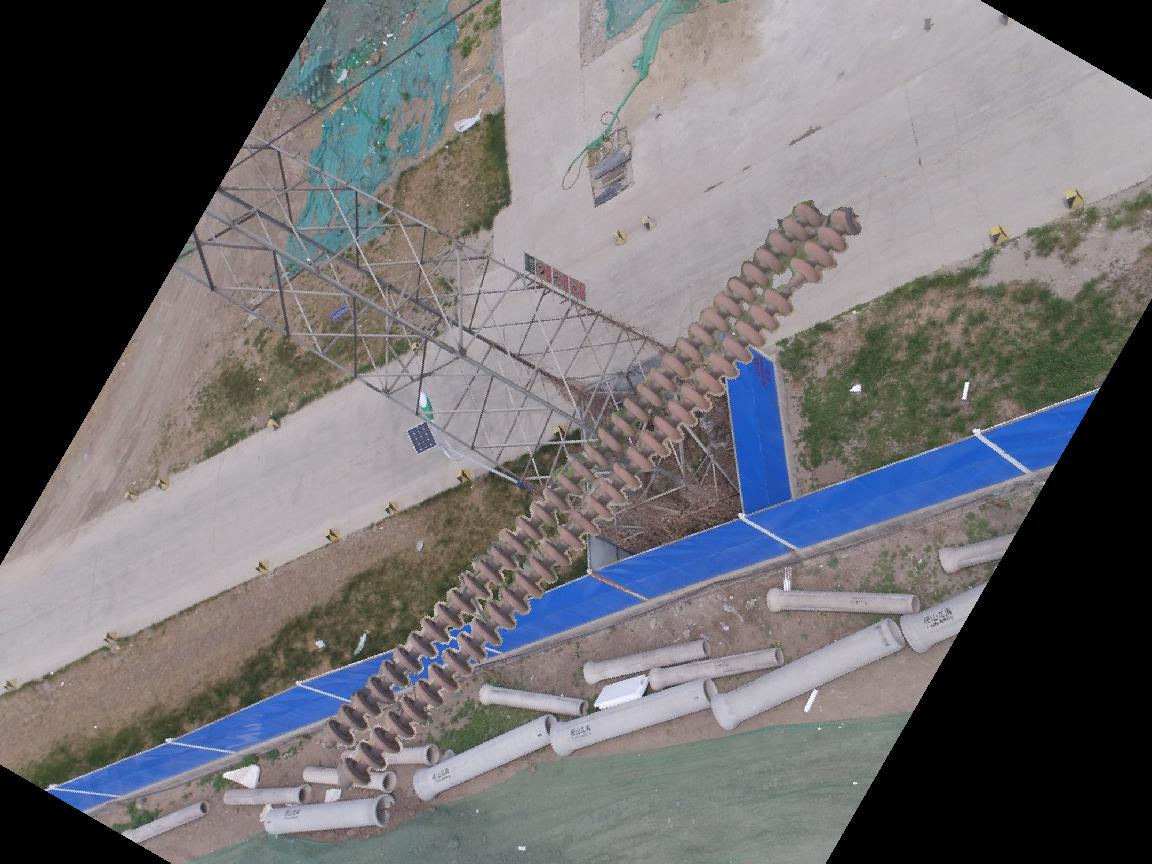insulator: (315, 197, 864, 792)
insulator_stringdrop: (759, 251, 824, 316)
